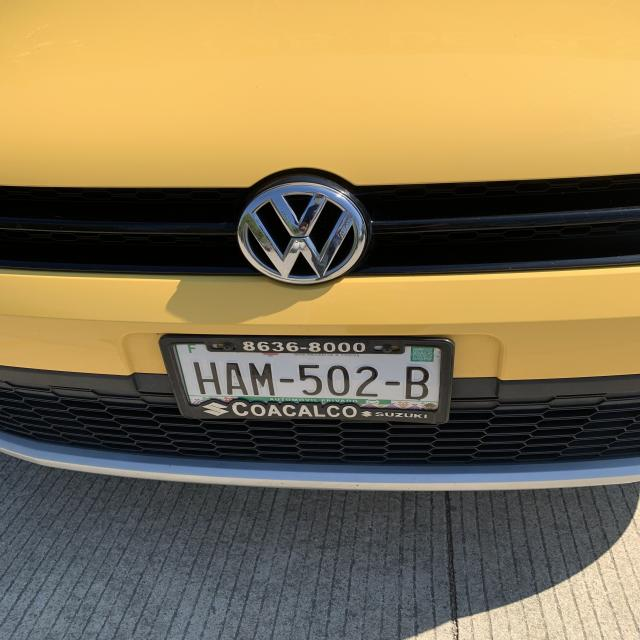placa: (178, 353, 443, 403)
